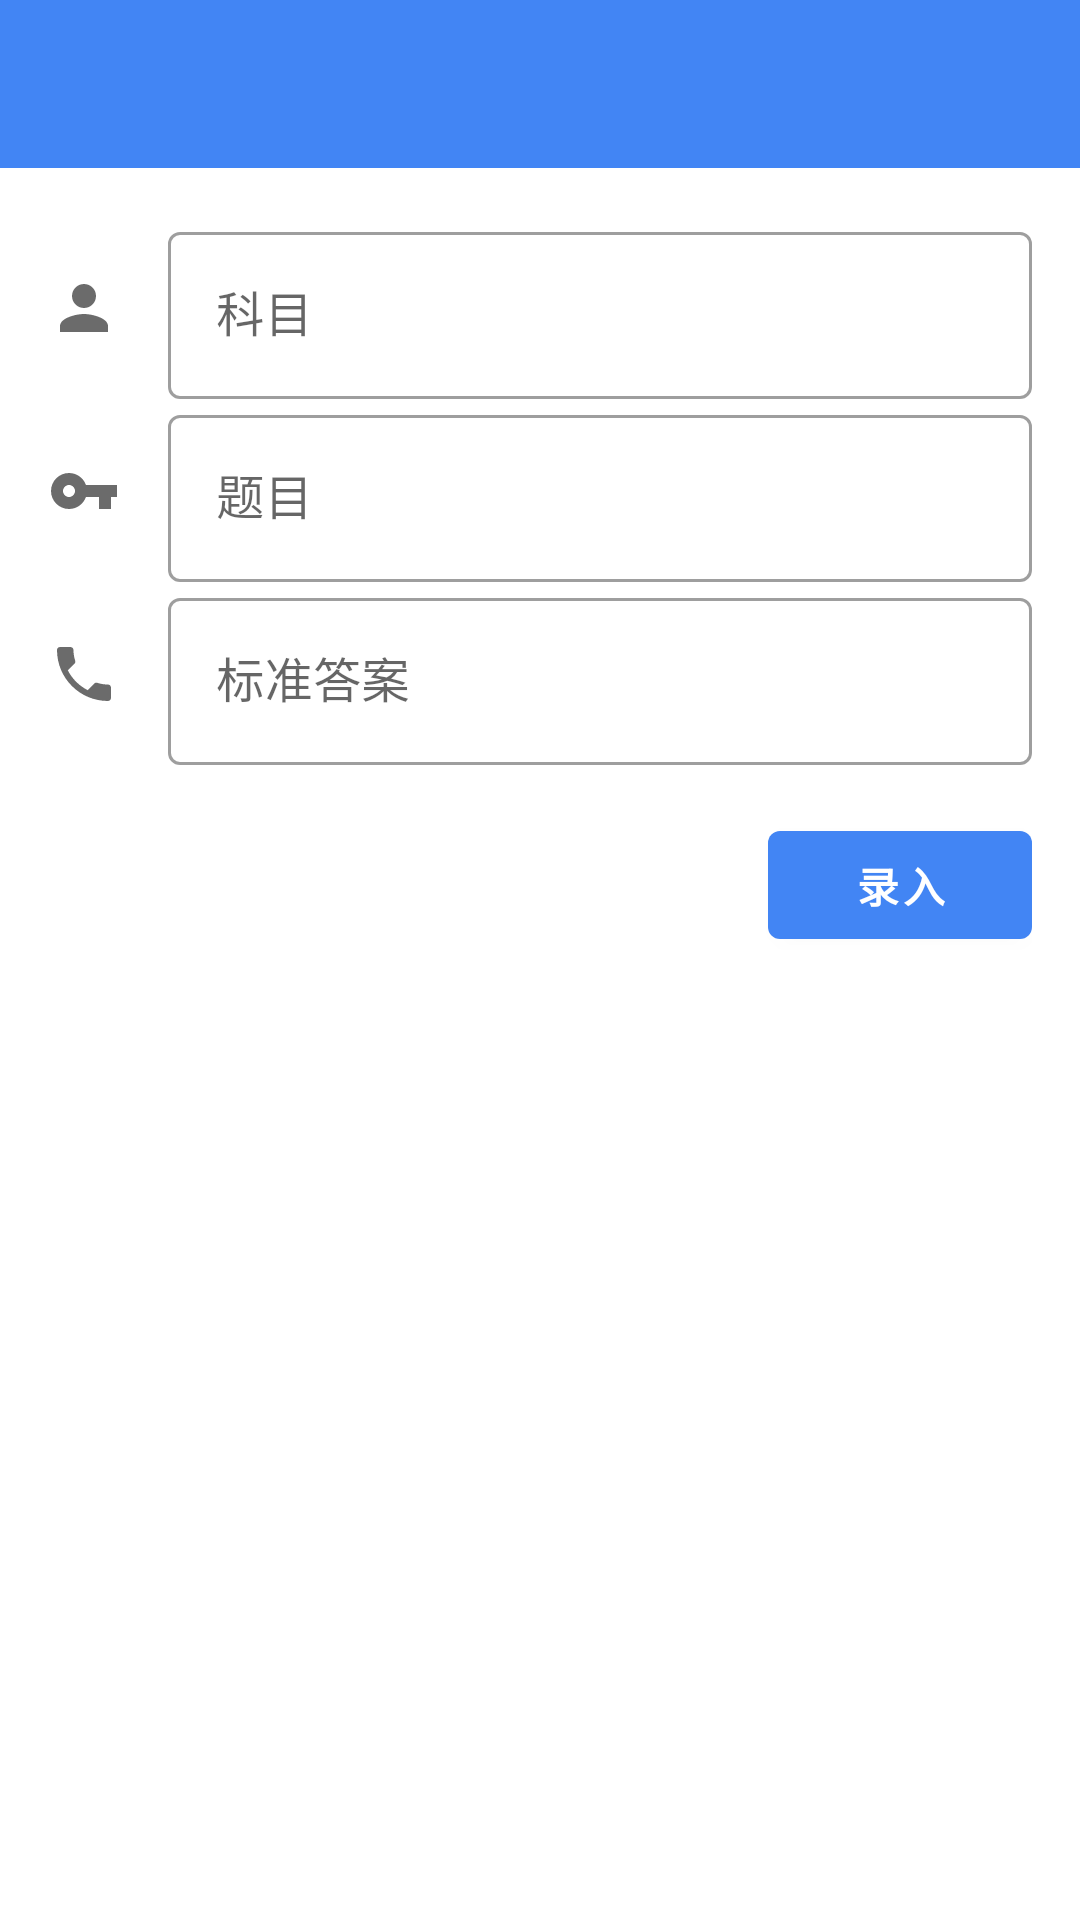

Screen size 1080 x 1920. Icon name, then its center in pixels as (x,y):
person: (84,308)
phone: (84,674)
vpn key: (84,491)
